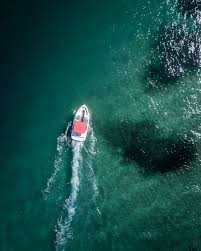boat: (69, 102, 91, 142)
